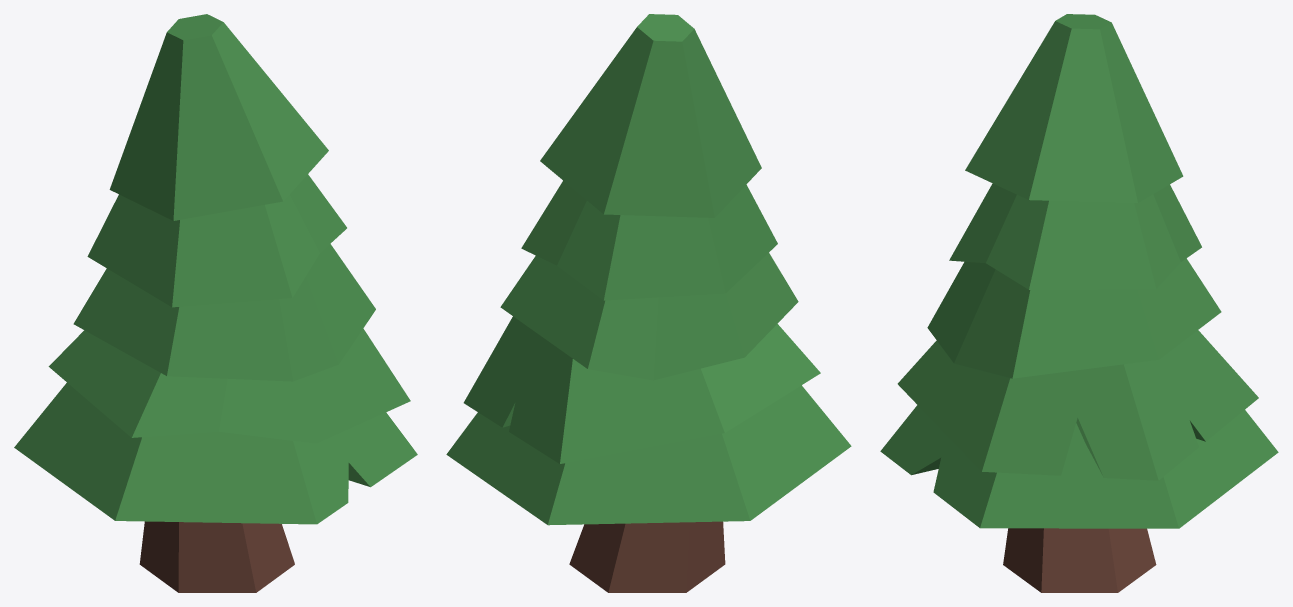
Rendered from pine_tree.fbx.
The picture shows the model from 3 angles, left to right: view 1: azimuth 30°, elevation 25°; view 2: azimuth 150°, elevation 25°; view 3: azimuth 270°, elevation 25°; orthographic projection.
Visible parts, largest first — view 1: leaves, leaves.004, leaves.002, leaves.001, leaves.003, base; view 2: leaves, leaves.004, leaves.001, leaves.002, leaves.003, base; view 3: leaves.001, leaves.004, leaves, leaves.002, leaves.003, base.
Part boxes in pixels (<box>): leaves: <box>14,383,417,524</box>; leaves.004: <box>109,14,328,220</box>; leaves.002: <box>73,244,375,381</box>; leaves.001: <box>48,328,410,443</box>; leaves.003: <box>87,174,346,307</box>; base: <box>139,521,294,592</box>; leaves: <box>446,385,851,525</box>; leaves.004: <box>540,14,761,217</box>; leaves.001: <box>463,316,820,463</box>; leaves.002: <box>500,253,798,380</box>; leaves.003: <box>521,180,777,300</box>; base: <box>569,521,725,592</box>; leaves.001: <box>897,330,1258,480</box>; leaves.004: <box>965,14,1183,202</box>; leaves: <box>880,405,1278,528</box>; leaves.002: <box>927,258,1221,378</box>; leaves.003: <box>949,183,1201,289</box>; base: <box>1003,528,1156,592</box>.
Size of the model in its own units: 357 by 613 by 412.
